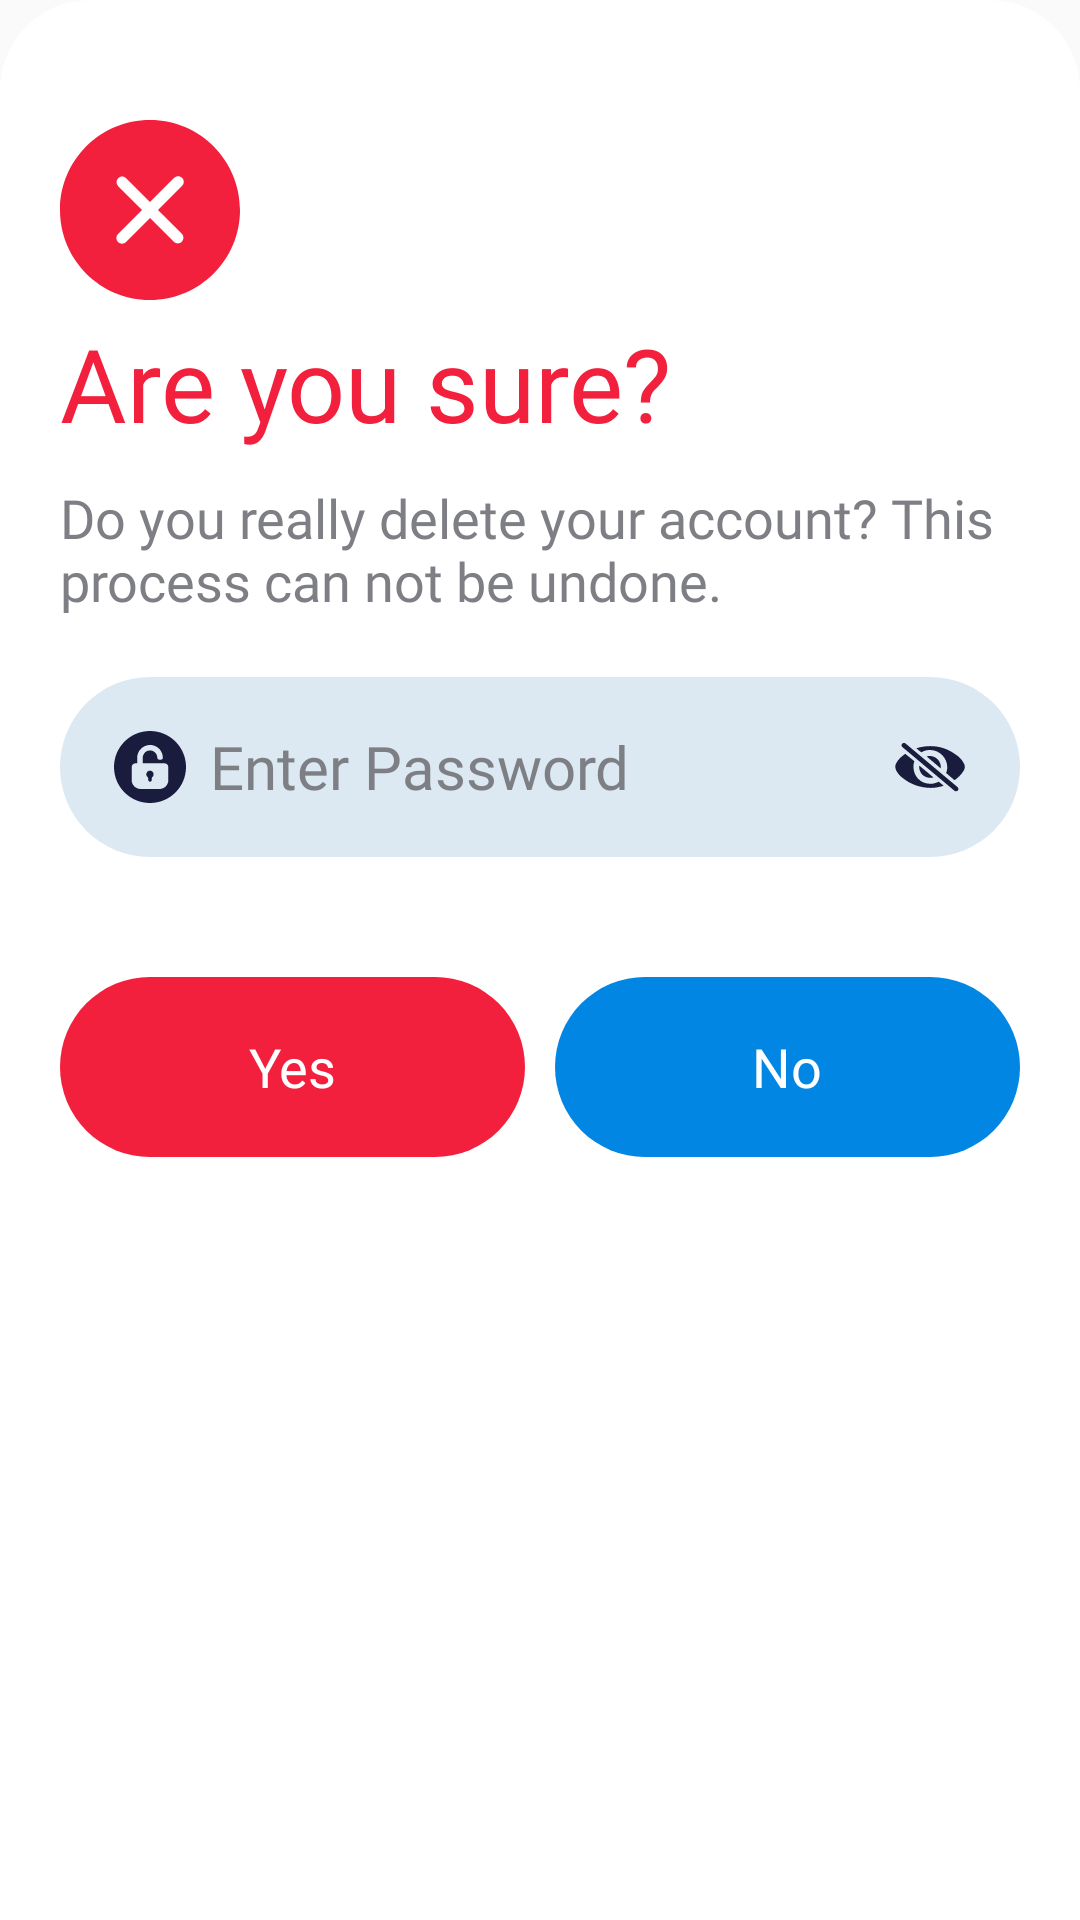

Screen size 1080 x 1920. Icon name, then its box in pixels as (x1=x1, y1=y1, x2=x2, y2=y2):
cross circle: (x1=60, y1=120, x2=240, y2=300)
pass hide: (x1=895, y1=743, x2=965, y2=792)
